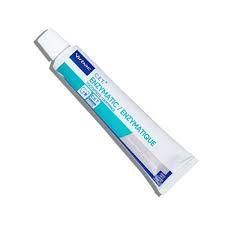toothpaste: (32, 20, 205, 200)
